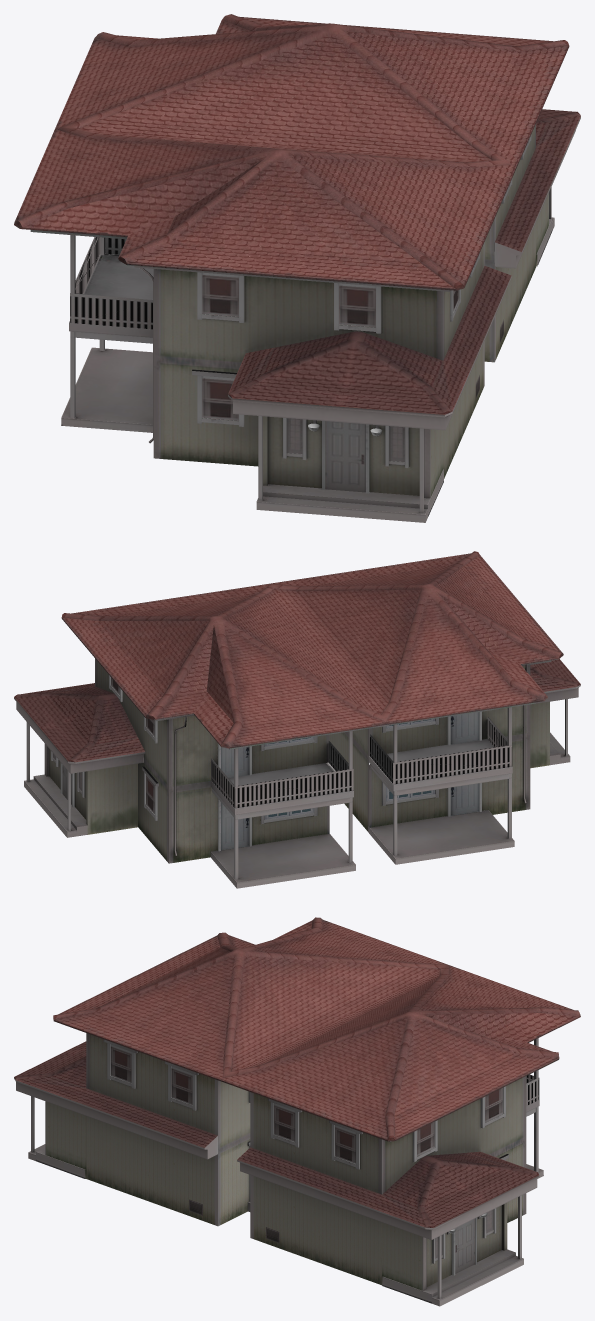
The picture shows the model from 3 angles, top to bottom: view 1: azimuth 30°, elevation 25°; view 2: azimuth 150°, elevation 25°; view 3: azimuth 270°, elevation 25°; orthographic projection. The views are drawn at different scales.
Parts seen in each view (by area): view 1: City_building_051; view 2: City_building_051; view 3: City_building_051.
Boxes of the visible parts, left/top/right/bottom form: City_building_051: left=14, top=14, right=580, bottom=522; City_building_051: left=14, top=551, right=580, bottom=888; City_building_051: left=14, top=917, right=580, bottom=1306.
Bounding box in the file's own units: 2915 × 2976 × 1188.
Materials: 1 (1 with a texture image).
